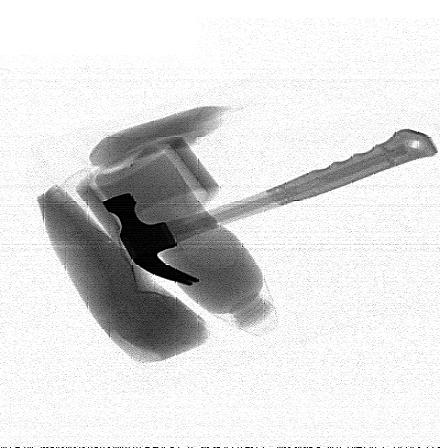Hammer: (102, 128, 439, 286)
